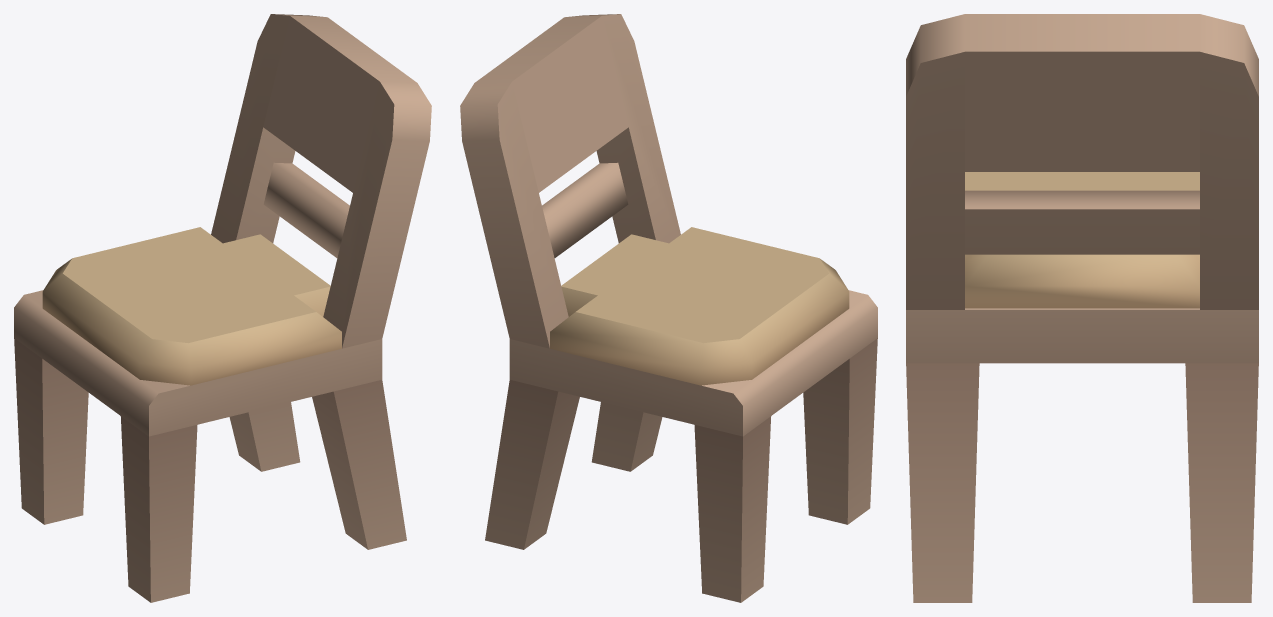
File: wooden-chair-cushion.glb
The picture shows the model from 3 angles, left to right: view 1: azimuth 30°, elevation 25°; view 2: azimuth 150°, elevation 25°; view 3: azimuth 270°, elevation 25°; orthographic projection. The views are drawn at different scales.
Parts seen in each view (by area): view 1: wooden-chair-cushion; view 2: wooden-chair-cushion; view 3: wooden-chair-cushion.
Part boxes in pixels (x1,y1,x2,y2): wooden-chair-cushion: [14, 14, 431, 602]; wooden-chair-cushion: [460, 14, 877, 602]; wooden-chair-cushion: [906, 14, 1258, 602].
Size of the model in its own units: 0.449 by 0.6577 by 0.36.
